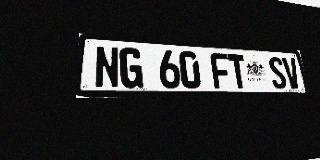0: (179, 51, 201, 88)
6: (158, 50, 181, 88)
F: (210, 53, 232, 89)
G: (120, 47, 143, 88)
N: (95, 46, 119, 88)
S: (267, 56, 288, 89)
T: (227, 54, 249, 89)
V: (282, 57, 302, 89)
